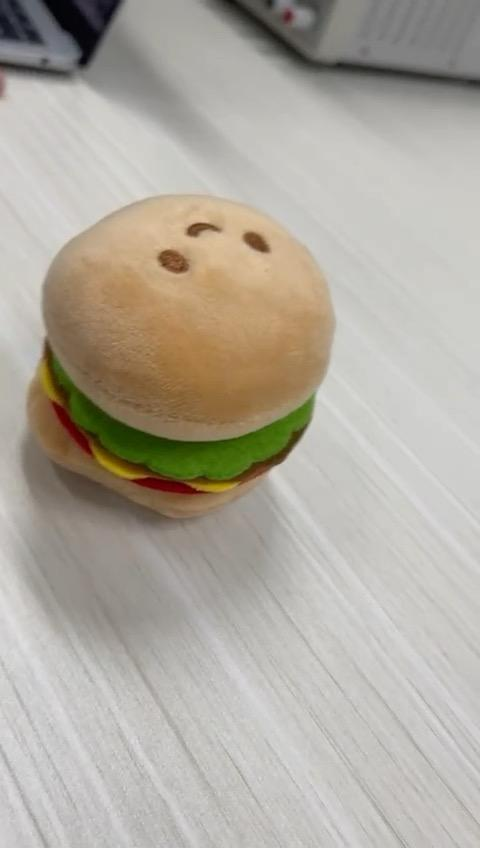hamburger: (27, 196, 337, 516)
